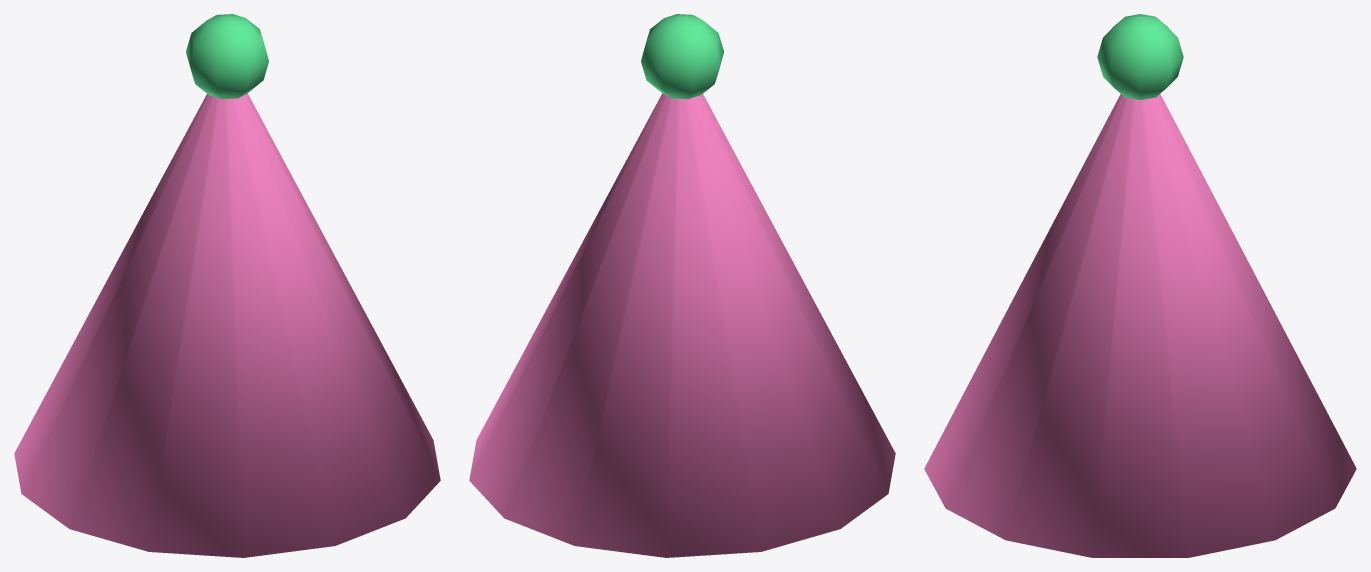
The model's file is hat_party.glb.
The picture shows the model from 3 angles, left to right: view 1: azimuth 30°, elevation 25°; view 2: azimuth 150°, elevation 25°; view 3: azimuth 270°, elevation 25°; orthographic projection.
Parts seen in each view (by area): view 1: hat_party; view 2: hat_party; view 3: hat_party.
Part boxes in pixels (<box>): hat_party: <box>14,14,440,557</box>; hat_party: <box>469,14,895,557</box>; hat_party: <box>924,14,1356,557</box>.
Size of the model in its own units: 0.39 by 0.46 by 0.4.
